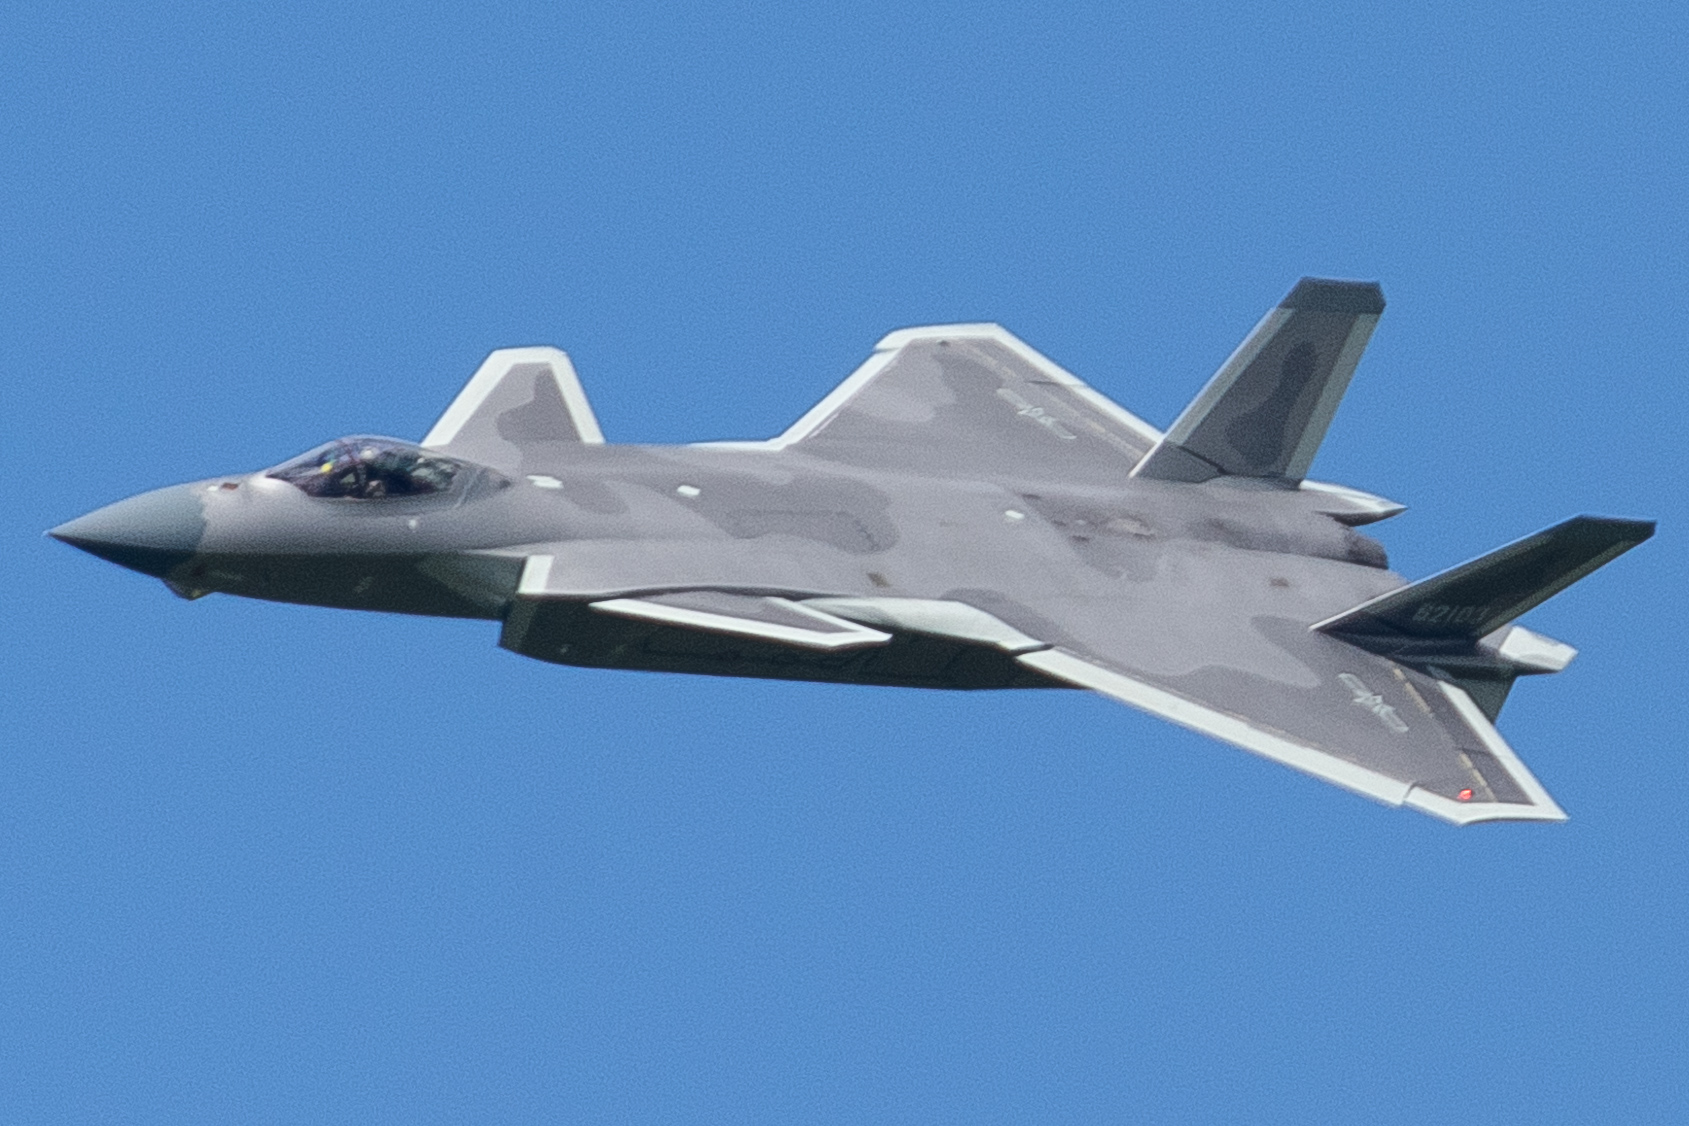J20: (41, 275, 1658, 829)
